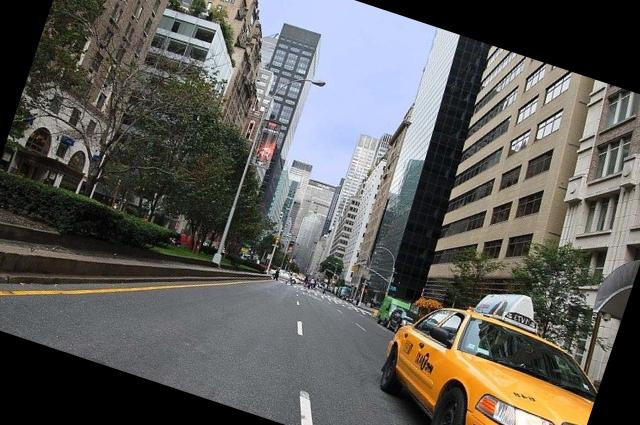taxi: (375, 299, 594, 425)
